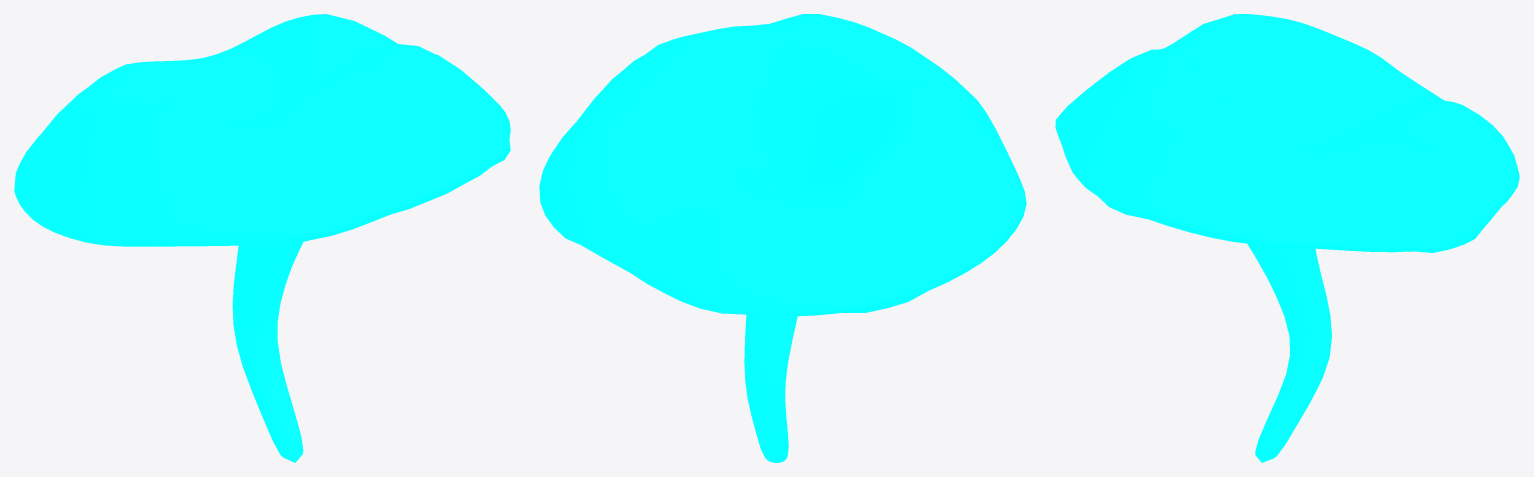
The model's file is mushroombluepink_medium.fbx.
The picture shows the model from 3 angles, left to right: view 1: azimuth 30°, elevation 25°; view 2: azimuth 150°, elevation 25°; view 3: azimuth 270°, elevation 25°; orthographic projection. The views are drawn at different scales.
Parts seen in each view (by area): view 1: mushroom_musgrave.001; view 2: mushroom_musgrave.001; view 3: mushroom_musgrave.001.
Part boxes in pixels (x1,y1,x2,y2): mushroom_musgrave.001: (14, 14, 510, 462); mushroom_musgrave.001: (539, 14, 1026, 462); mushroom_musgrave.001: (1055, 14, 1519, 462).
Bounding box in the file's own units: 14.91 × 13.96 × 14.65.
